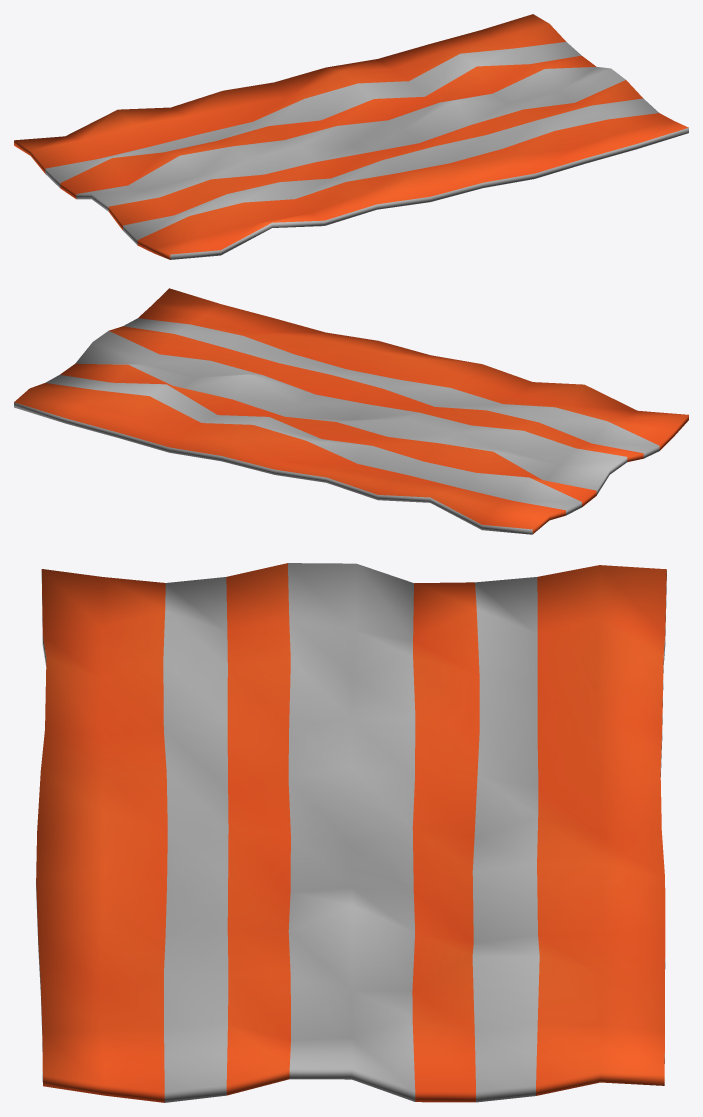
Rendered from toalla1.fbx.
The picture shows the model from 3 angles, top to bottom: view 1: azimuth 30°, elevation 25°; view 2: azimuth 150°, elevation 25°; view 3: azimuth 270°, elevation 25°; orthographic projection. The views are drawn at different scales.
Visible parts, largest first — view 1: toalla1; view 2: toalla1; view 3: toalla1.
Boxes of the visible parts, x1,y1,x2,y2 form: toalla1: (14,14,688,259); toalla1: (14,288,688,534); toalla1: (36,563,666,1102).
Size of the model in its own units: 198 by 8.07 by 104.
1 material, 1 textured.
